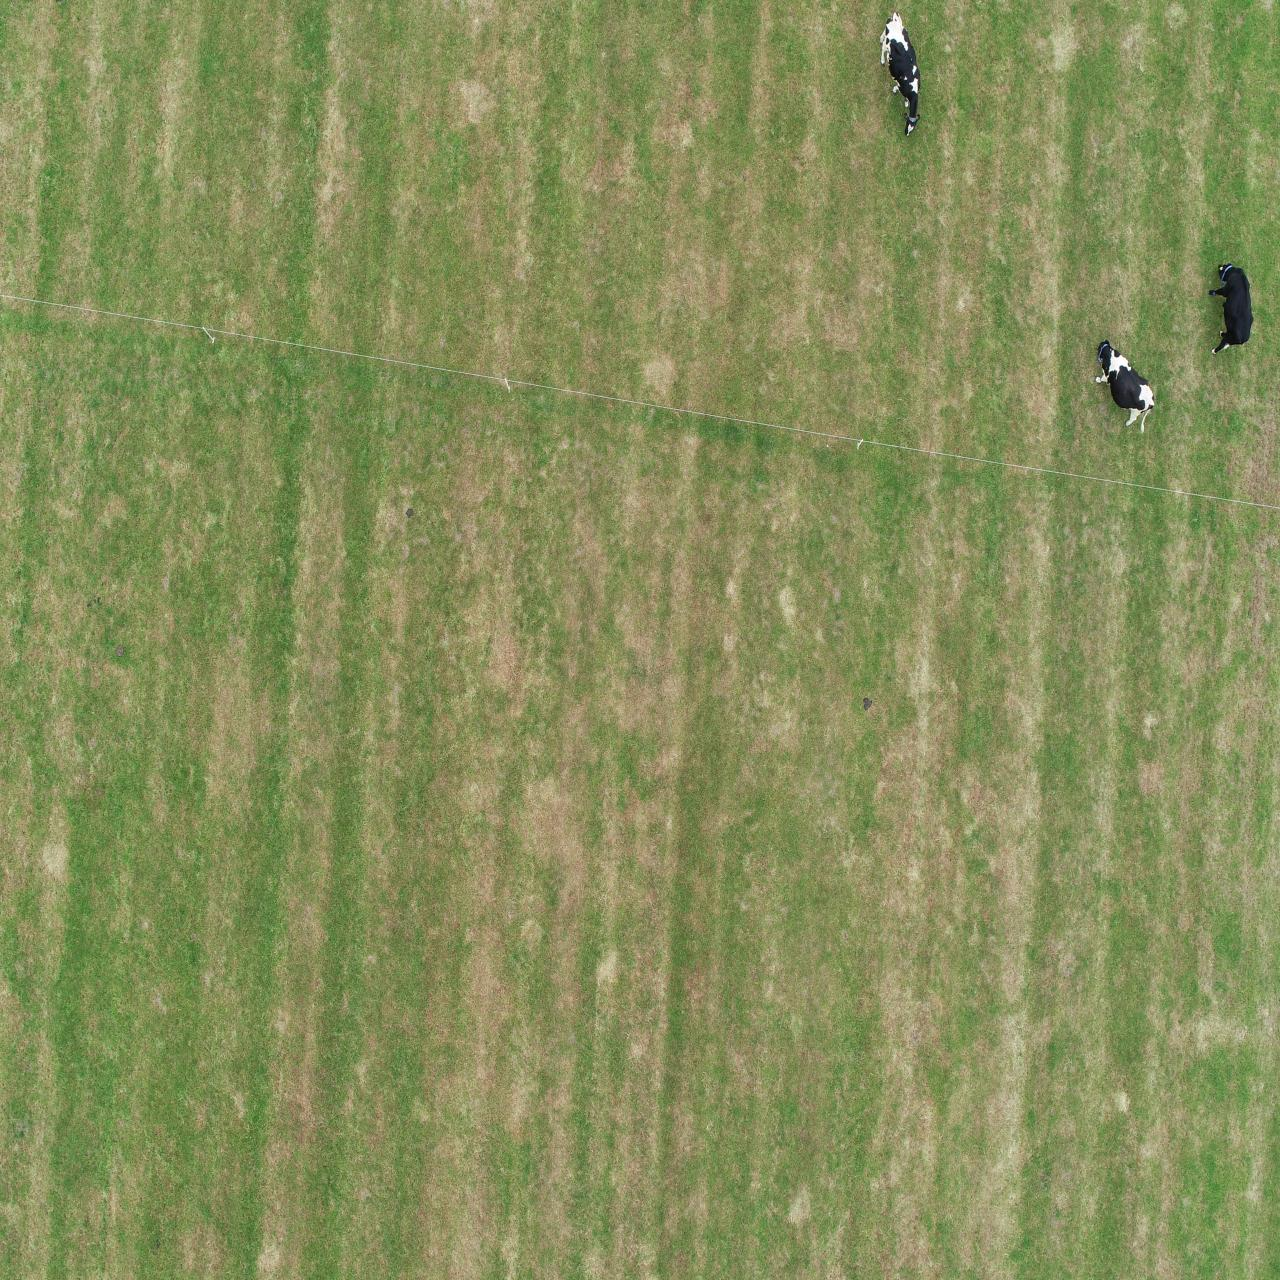cow: (1096, 339, 1155, 433), (879, 11, 921, 136), (1208, 264, 1254, 355)
